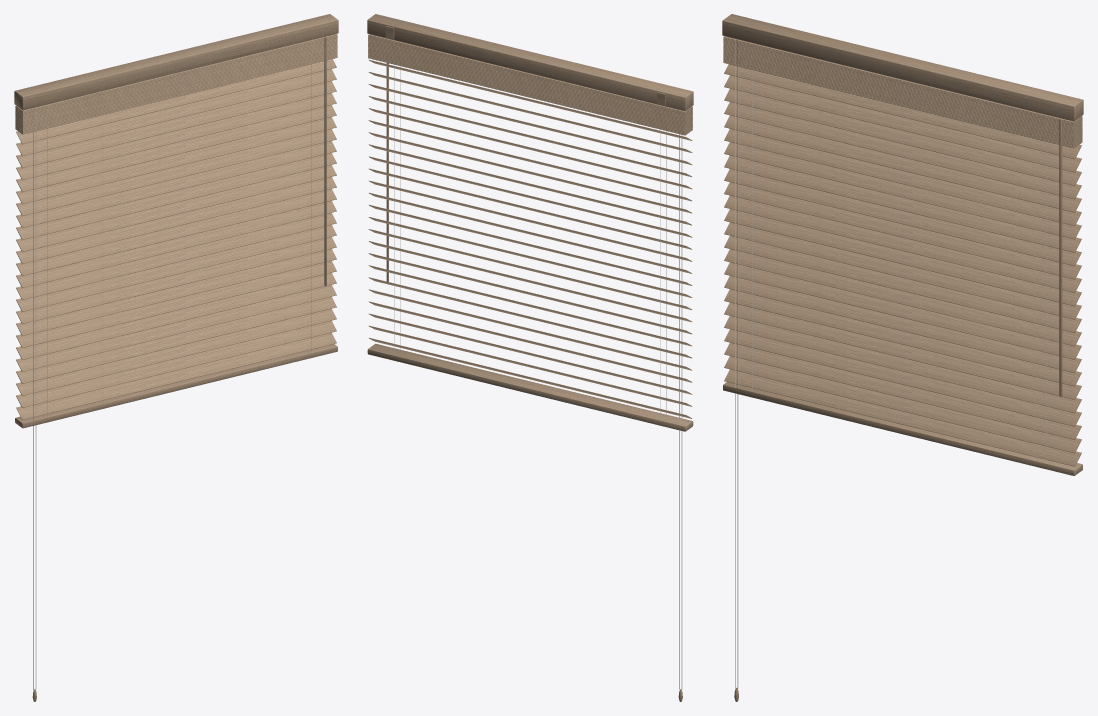
The model's file is veneciana_madera_220_c50.glb.
3 views of the same model, side by side, from view 1: azimuth 30°, elevation 25°; view 2: azimuth 150°, elevation 25°; view 3: azimuth 330°, elevation 25° (orthographic). The views are drawn at different scales.
Parts seen in each view (by area): view 1: veneciana_madera_220_c50; view 2: veneciana_madera_220_c50; view 3: veneciana_madera_220_c50.
Part boxes in pixels (x1,y1,x2,y2): veneciana_madera_220_c50: (14, 14, 338, 701); veneciana_madera_220_c50: (367, 14, 693, 701); veneciana_madera_220_c50: (722, 14, 1083, 701).
Size of the model in its own units: 1.2 by 2.2 by 0.0639.
Materials: 2 (1 with a texture image).
